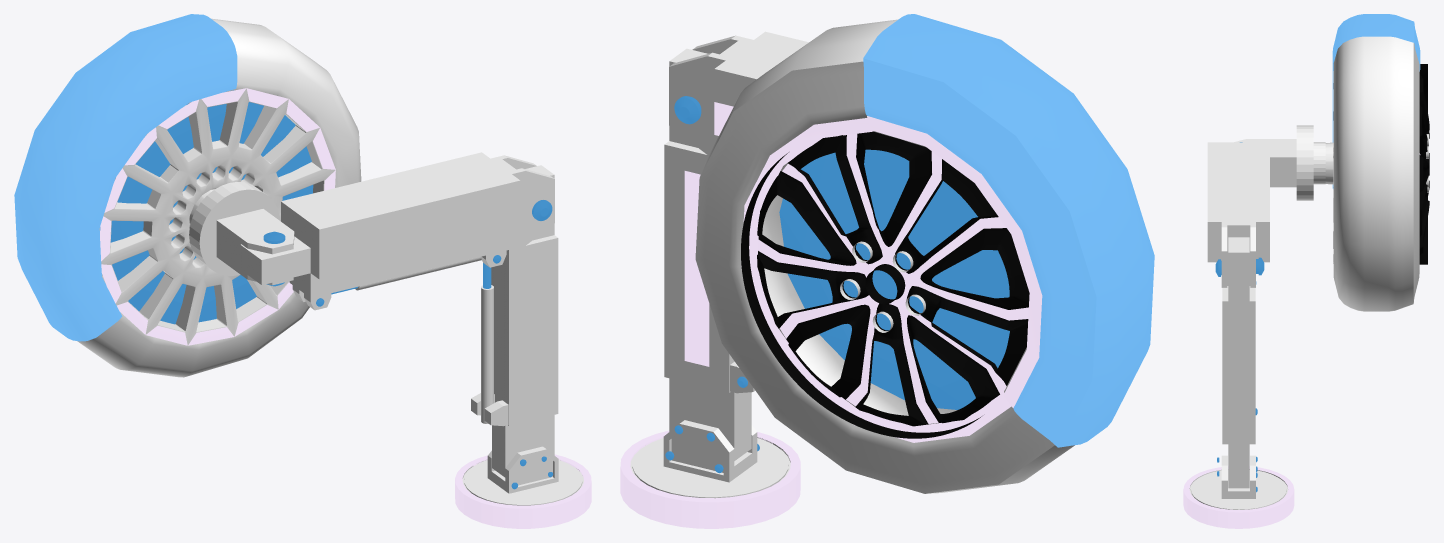
3 renders of one model, left to right at view 1: azimuth 30°, elevation 25°; view 2: azimuth 150°, elevation 25°; view 3: azimuth 270°, elevation 25°, orthographic. The views are drawn at different scales.
Parts seen in each view (by area): view 1: ban_2.024, ban_2.046, Plane.073, Cube.013, ban_2.045, Plane.072, Circle.157, Circle.162, Plane.077, Cylinder.047, Plane.074; view 2: ban_2.024, Hyper_NURBS.002, ban_2.045, Cube.013, Hyper_NURBS.003, Plane.072, Plane.073, Circle.157, Circle.172; view 3: ban_2.024, Plane.073, Cube.013, Plane.072, Circle.157, Hyper_NURBS.002, Circle.162, Plane.077, ban_2.046.
Part boxes in pixels (x1,y1,x2,y2): ban_2.024: (14,14,361,377); ban_2.046: (100,88,335,345); Plane.073: (240,152,554,297); Cube.013: (491,165,558,477); ban_2.045: (100,90,313,324); Plane.072: (462,446,583,505); Circle.157: (455,454,591,528); Circle.162: (189,182,279,275); Plane.077: (216,209,294,285); Cylinder.047: (481,285,493,423); Plane.074: (471,393,508,426); ban_2.024: (695,14,1154,493); Hyper_NURBS.002: (741,131,1029,438); ban_2.045: (779,149,1009,409); Cube.013: (664,48,751,460); Hyper_NURBS.003: (758,133,1028,423); Plane.072: (630,420,790,498); Plane.073: (669,31,808,155); Circle.157: (620,430,800,528); Circle.172: (674,96,701,124); ban_2.024: (1332,14,1420,311); Plane.073: (1207,142,1269,287); Cube.013: (1222,237,1255,488); Plane.072: (1189,455,1287,509); Circle.157: (1183,466,1294,528); Hyper_NURBS.002: (1419,64,1429,264); Circle.162: (1296,125,1325,200); Plane.077: (1234,139,1296,187); ban_2.046: (1325,71,1333,263).
Bounding box in the file's own units: 21.45 × 20.59 × 12.05.
